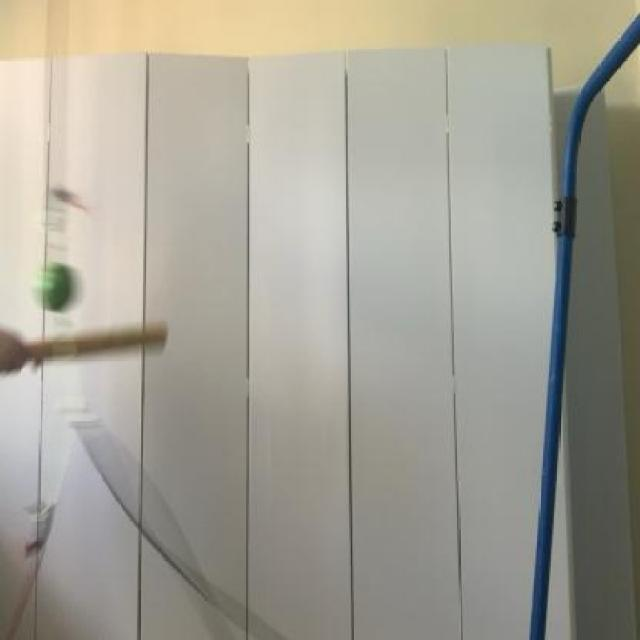baseball: (24, 248, 78, 318)
